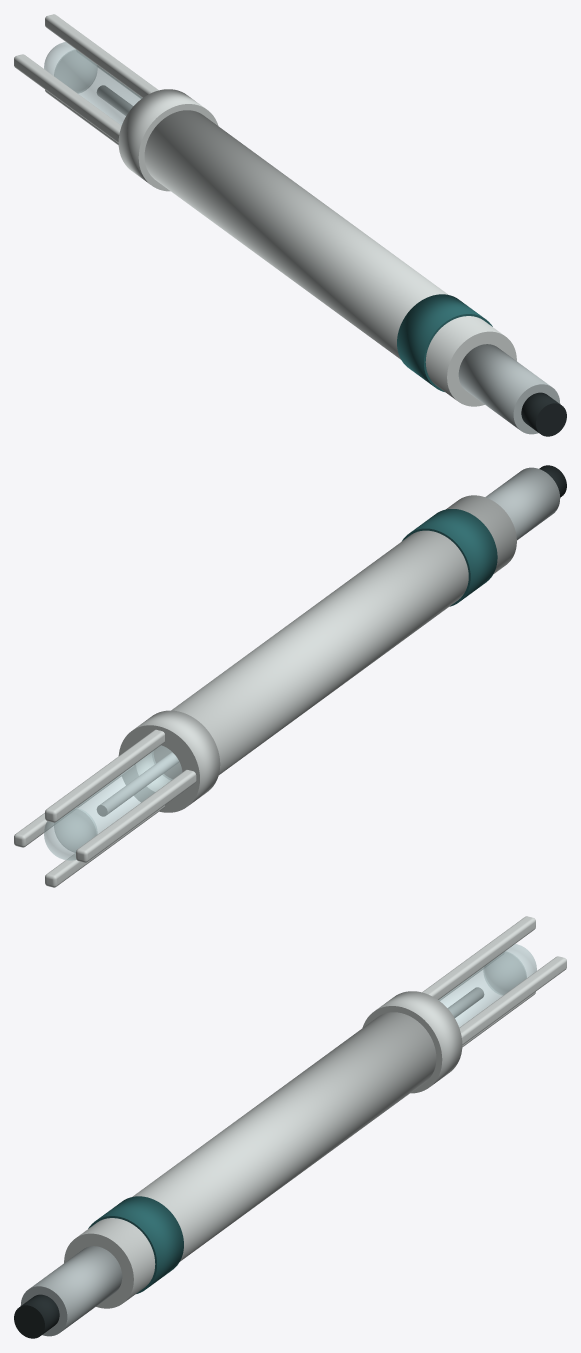
File: probe.glb
3 renders of one model, top to bottom at view 1: azimuth 30°, elevation 25°; view 2: azimuth 150°, elevation 25°; view 3: azimuth 330°, elevation 25°, orthographic.
Parts seen in each view (by area): view 1: probe_handle, connector, guard_collar, handle_band, glass_stem, tip_guard.002, tip_guard.001, sensing_bulb, connector_tip; view 2: probe_handle, guard_collar, glass_stem, handle_band, connector, tip_guard.002, tip_guard.001, sensing_bulb, electrode_core, tip_guard.003, tip_guard; view 3: probe_handle, connector, guard_collar, handle_band, glass_stem, tip_guard, tip_guard.001, sensing_bulb, connector_tip.
Boxes of the visible parts, x1,y1,x2,y2 form: probe_handle: (144,110,516,406); connector: (458,344,560,434); guard_collar: (118,89,218,191); handle_band: (397,294,492,391); glass_stem: (54,49,142,125); tip_guard.002: (14,54,121,142); tip_guard.001: (45,14,158,97); sensing_bulb: (44,42,97,93); connector_tip: (521,392,566,436); probe_handle: (152,495,516,780); guard_collar: (118,710,220,812); glass_stem: (54,745,181,852); handle_band: (402,509,497,606); connector: (485,467,560,540); tip_guard.002: (76,770,196,862); tip_guard.001: (45,729,164,822); sensing_bulb: (44,807,97,860); electrode_core: (96,752,179,816); tip_guard.003: (45,805,164,887); tip_guard: (14,765,133,847); probe_handle: (64,1012,436,1308); connector: (20,1246,122,1336); guard_collar: (362,991,462,1093); handle_band: (88,1196,183,1293); glass_stem: (438,951,526,1027); tip_guard: (459,956,566,1044); tip_guard.001: (422,916,535,999); sensing_bulb: (483,944,536,995); connector_tip: (14,1294,59,1338).
Size of the model in its own units: 0.021 by 0.021 by 0.224.
